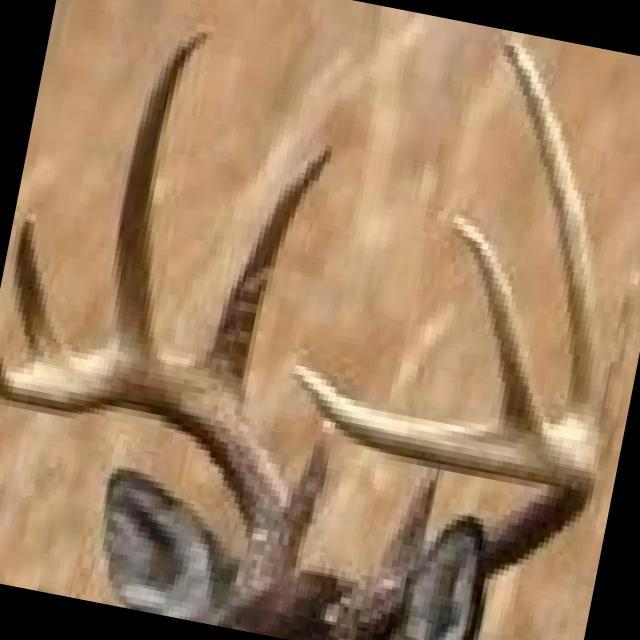L-G1: (374, 474, 438, 575)
L-G3: (496, 40, 600, 459)
L-G4: (450, 211, 544, 439)
R-F: (0, 351, 303, 606)
R-G1: (287, 430, 331, 546)
R-G2: (202, 143, 334, 405)
R-G3: (112, 27, 215, 352)
R-G4: (14, 213, 67, 362)
